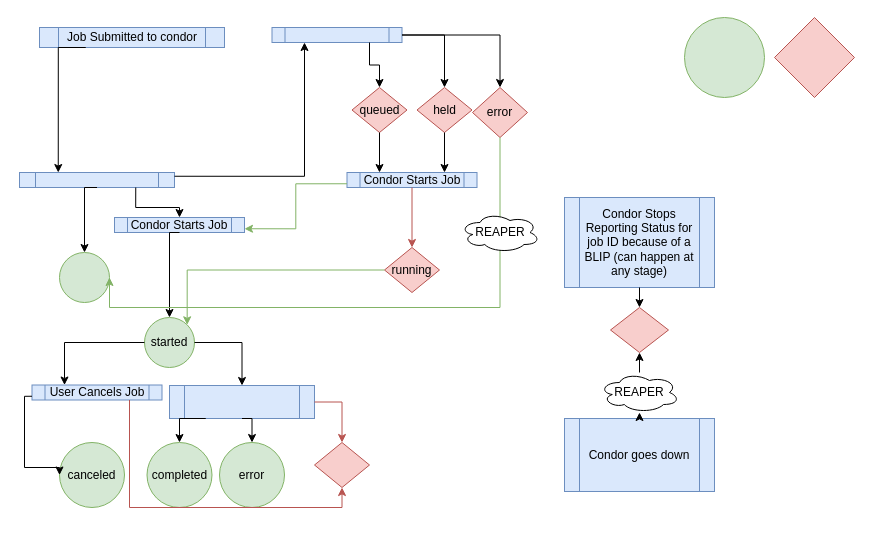
This 872x533 diagram has some shape labels left out. Here are the shapes that lost their labels. From the top down, the centre of each, then its label:
At (336,34): "Condor Holds Job".
At (724,57): "UJS".
At (814,57): "Condor".
At (96,180): "Condor Receives Job".
At (84,277): "created".
At (639,329): "unavail".
At (241,401): "Job Starts and Terminates".
At (342,465): "done".
